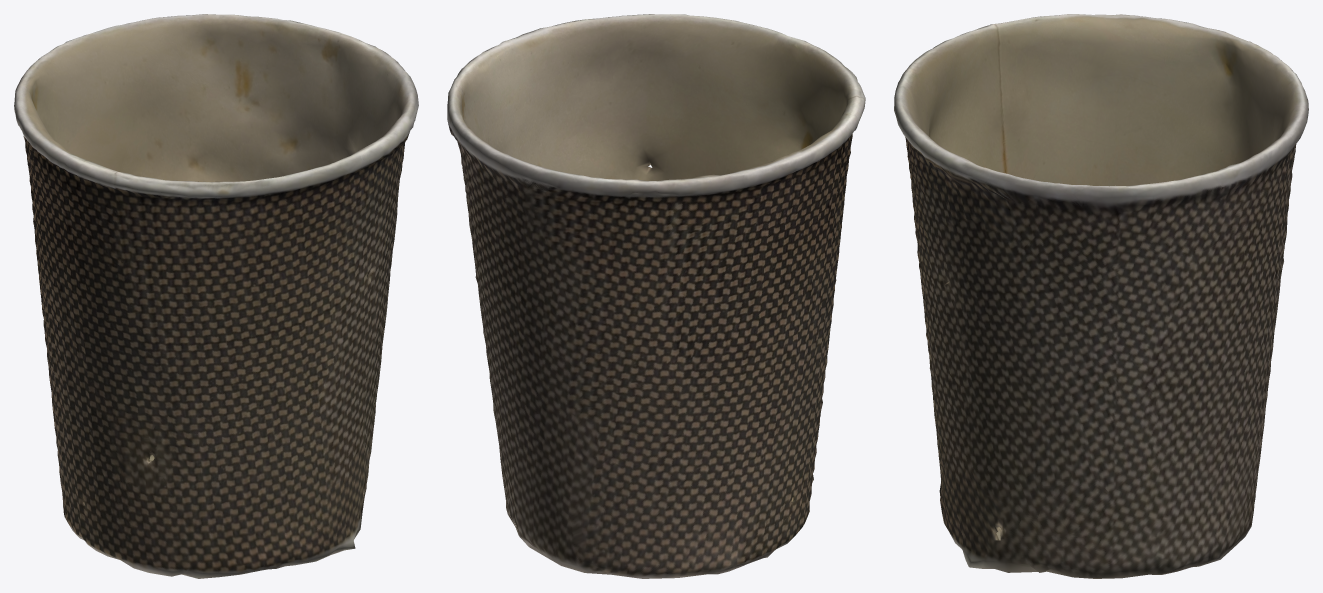
Rendered from arch_coffecup.glb.
The picture shows the model from 3 angles, left to right: view 1: azimuth 30°, elevation 25°; view 2: azimuth 150°, elevation 25°; view 3: azimuth 270°, elevation 25°; orthographic projection. The views are drawn at different scales.
Parts seen in each view (by area): view 1: ObjectCapture; view 2: ObjectCapture; view 3: ObjectCapture.
Part boxes in pixels (<box>): ObjectCapture: <box>14,14,418,578</box>; ObjectCapture: <box>447,14,865,578</box>; ObjectCapture: <box>894,14,1308,578</box>.
Size of the model in its own units: 0.0723 by 0.0846 by 0.072.
Materials: 1 (1 with a texture image).
